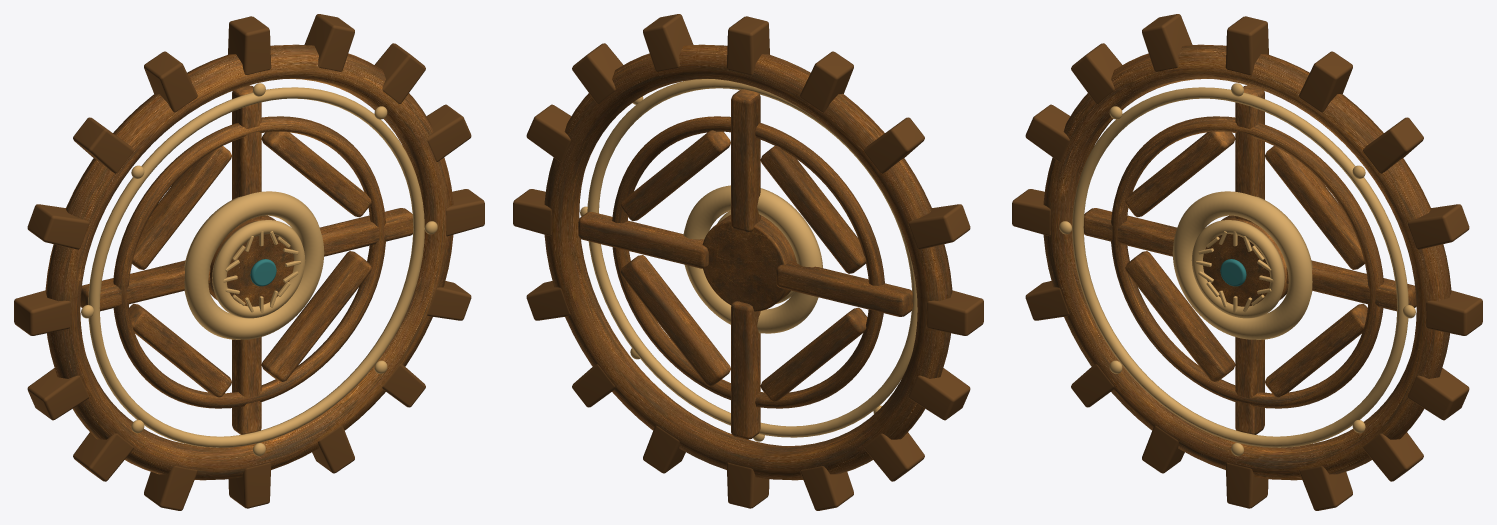
Rendered from time-ruins-gear.glb.
3 views of the same model, side by side, from view 1: azimuth 30°, elevation 25°; view 2: azimuth 150°, elevation 25°; view 3: azimuth 330°, elevation 25° (orthographic).
Parts seen in each view (by area): view 1: time-ruins-gear Aged bronze, time-ruins-gear Worn gold edges, time-ruins-gear Turquoise patina; view 2: time-ruins-gear Aged bronze, time-ruins-gear Worn gold edges; view 3: time-ruins-gear Aged bronze, time-ruins-gear Worn gold edges, time-ruins-gear Turquoise patina.
Part boxes in pixels (x1,y1,x2,y2): time-ruins-gear Aged bronze: (14,14,484,510); time-ruins-gear Worn gold edges: (81,83,437,456); time-ruins-gear Turquoise patina: (250,259,276,286); time-ruins-gear Aged bronze: (513,14,983,510); time-ruins-gear Worn gold edges: (580,79,917,441); time-ruins-gear Aged bronze: (1012,14,1482,510); time-ruins-gear Worn gold edges: (1059,83,1415,456); time-ruins-gear Turquoise patina: (1220,259,1246,286).
Bounding box in the file's own units: 2.44 × 2.44 × 0.23.
Materials: 3 (1 with a texture image).
